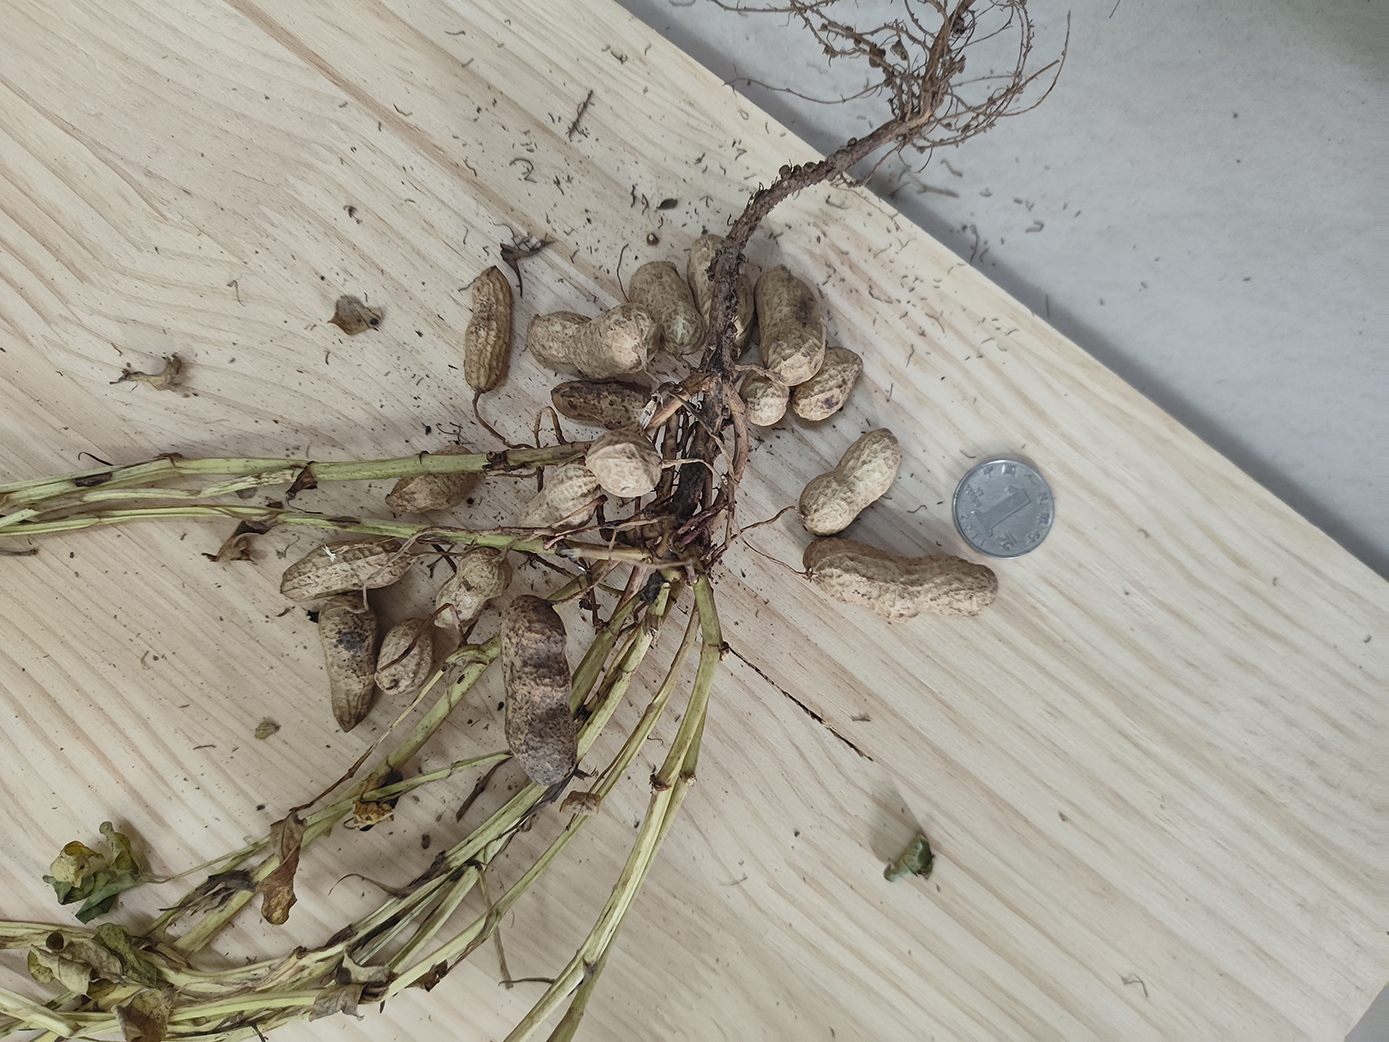h: (803, 539, 1000, 620), (800, 428, 902, 535), (528, 305, 659, 379), (756, 264, 827, 384), (319, 597, 377, 734), (686, 233, 756, 344), (283, 541, 410, 599), (630, 262, 702, 356), (385, 444, 481, 513), (430, 547, 513, 626), (465, 267, 513, 390), (792, 347, 863, 422), (520, 463, 599, 528), (586, 431, 661, 498), (377, 618, 435, 697), (739, 369, 788, 426)
l: (503, 597, 581, 785), (551, 380, 650, 430)
